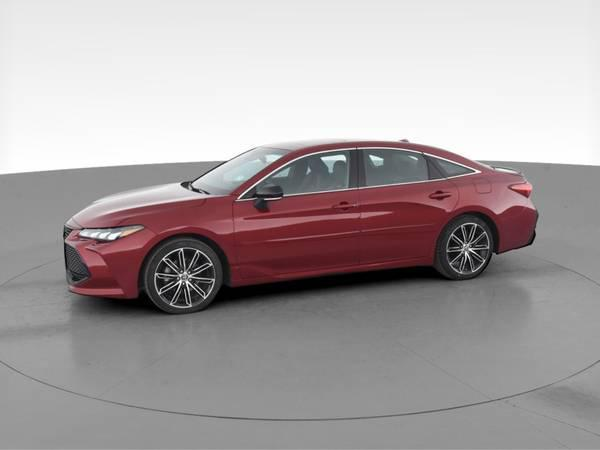Front_Bumper: (66, 227, 161, 295)
Front_Fender: (114, 192, 244, 284)
Front_Left_Door: (231, 187, 359, 280)
Front_Left_Window: (233, 148, 359, 199)
Front_Windshield: (184, 148, 286, 197)
Grille: (61, 226, 90, 293)
Hood: (64, 178, 228, 229)
Left_Headlight: (81, 223, 150, 241)
Left_Taillight: (510, 178, 535, 196)
Rear_Bumper: (494, 196, 536, 251)
Rear_Fender: (421, 152, 523, 219)
Rear_Left_Door: (357, 179, 456, 269)
Rear_Left_Window: (359, 149, 448, 189)
Roof: (231, 137, 519, 200)
Wheel: (145, 236, 225, 312), (438, 214, 492, 278)
